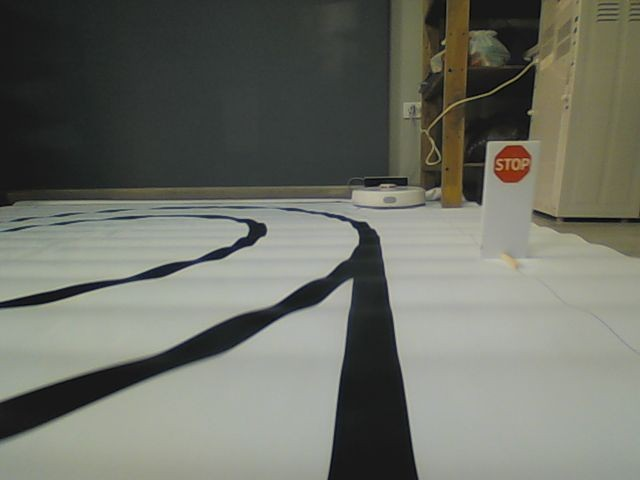Stop: (491, 144, 533, 185)
